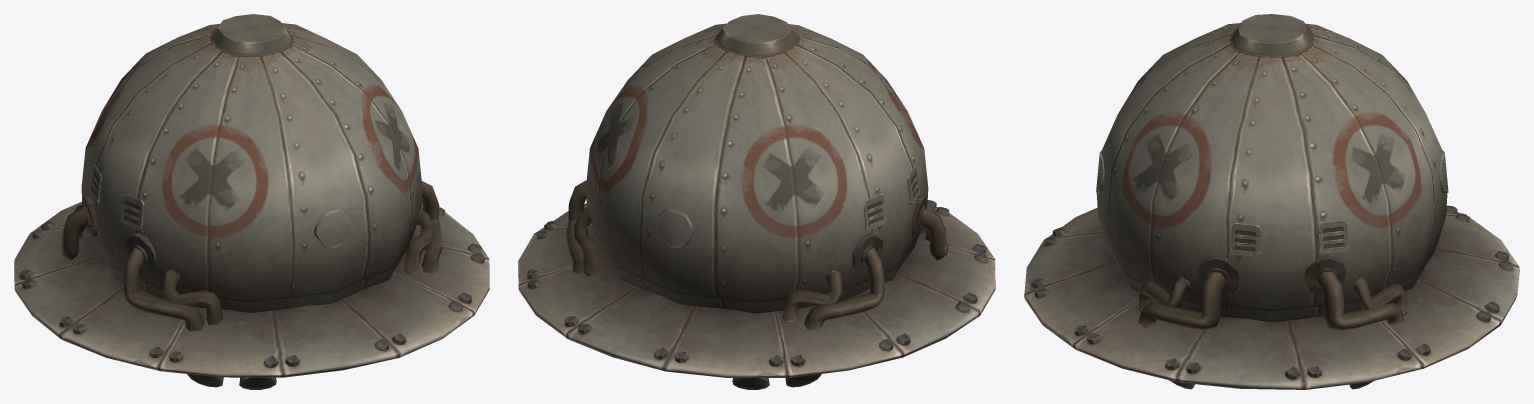
The model's file is UFO.gltf.
3 renders of one model, left to right at view 1: azimuth 30°, elevation 25°; view 2: azimuth 150°, elevation 25°; view 3: azimuth 270°, elevation 25°, orthographic. The views are drawn at different scales.
Visible parts, largest first — view 1: Props01a_Near_Mpve_MF03; view 2: Props01a_Near_Mpve_MF03; view 3: Props01a_Near_Mpve_MF03.
Part boxes in pixels (x1,y1,x2,y2): Props01a_Near_Mpve_MF03: [14, 14, 489, 389]; Props01a_Near_Mpve_MF03: [518, 14, 995, 389]; Props01a_Near_Mpve_MF03: [1024, 14, 1519, 389].
Bounding box in the file's own units: 7.04 × 5.08 × 7.04.
2 materials, 2 textured.
